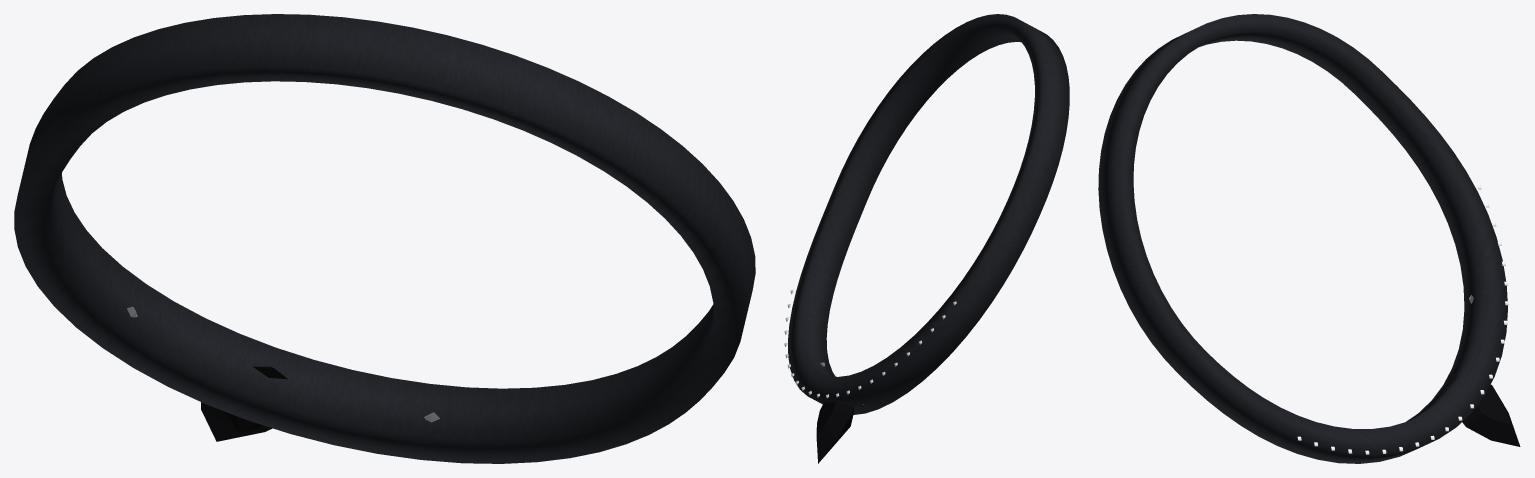
Rendered from selene-crown.glb.
3 renders of one model, left to right at view 1: azimuth 30°, elevation 25°; view 2: azimuth 150°, elevation 25°; view 3: azimuth 270°, elevation 25°, orthographic. The views are drawn at different scales.
Parts seen in each view (by area): view 1: Selene_ChevronBand, Selene_PearOnyx; view 2: Selene_ChevronBand, Selene_PearOnyx, Selene_MilgrainBeads; view 3: Selene_ChevronBand, Selene_PearOnyx, Selene_MilgrainBeads.
Boxes of the visible parts, bbox=[...] form: Selene_ChevronBand: bbox=[14, 14, 755, 463]; Selene_PearOnyx: bbox=[201, 366, 287, 441]; Selene_ChevronBand: bbox=[788, 14, 1069, 414]; Selene_PearOnyx: bbox=[816, 402, 853, 463]; Selene_MilgrainBeads: bbox=[784, 289, 956, 398]; Selene_ChevronBand: bbox=[1098, 14, 1507, 463]; Selene_PearOnyx: bbox=[1448, 372, 1520, 446]; Selene_MilgrainBeads: bbox=[1297, 185, 1508, 454].
Size of the model in its own units: 1.46 by 1.67 by 1.67.
Materials: 4 (2 with a texture image).
